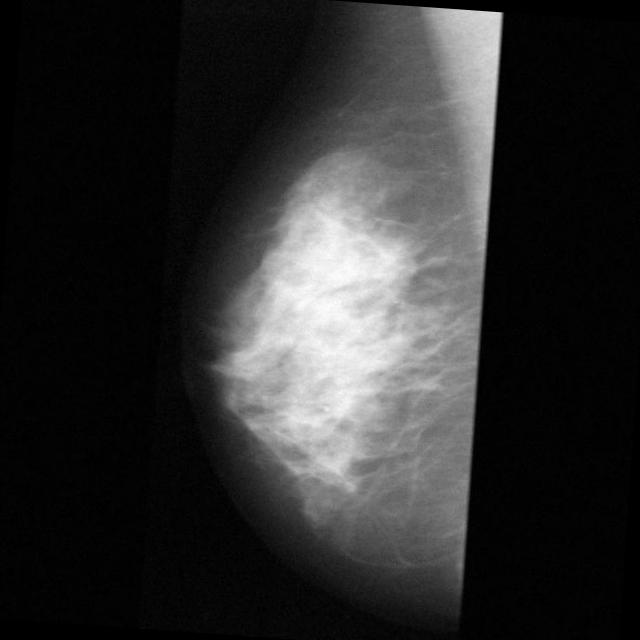SPIC: (350, 218, 431, 300)
